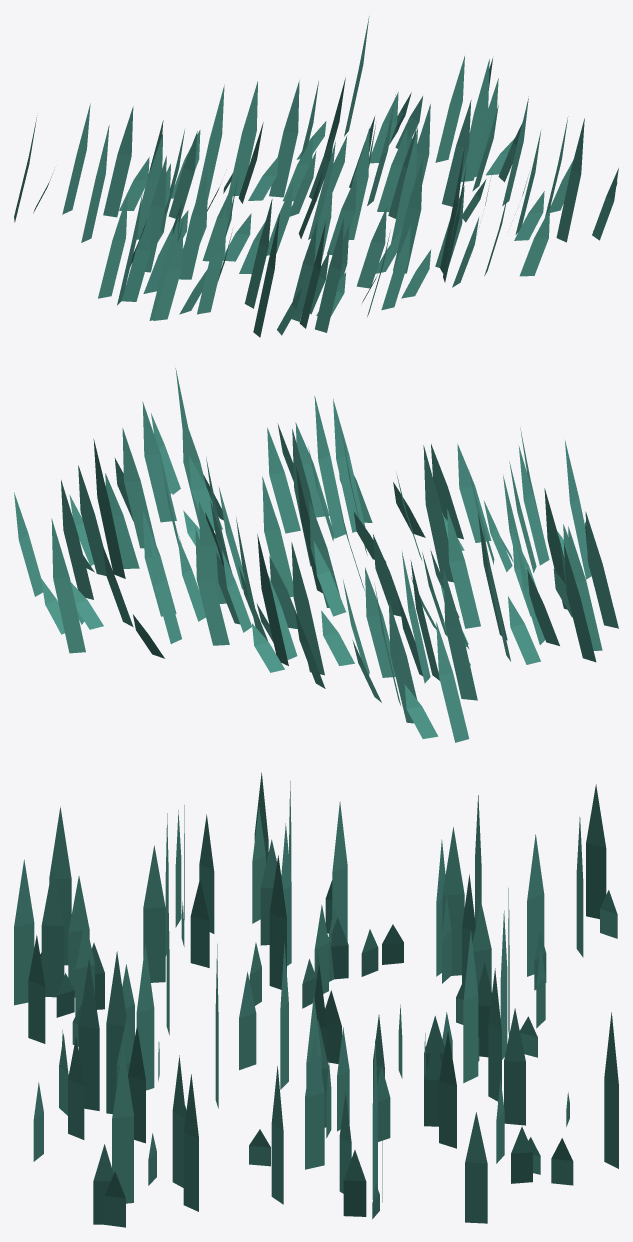
File: grass-cluster.glb
3 renders of one model, top to bottom at view 1: azimuth 30°, elevation 25°; view 2: azimuth 150°, elevation 25°; view 3: azimuth 270°, elevation 25°, orthographic. The views are drawn at different scales.
Visible parts, largest first — view 1: LMW_Wind_blades; view 2: LMW_Wind_blades; view 3: LMW_Wind_blades.
Part boxes in pixels (x1=…): LMW_Wind_blades: x1=14, y1=16, x2=618, y2=337; LMW_Wind_blades: x1=14, y1=368, x2=618, y2=742; LMW_Wind_blades: x1=14, y1=772, x2=618, y2=1227.
Bounding box in the file's own units: 3.19 × 0.7971 × 2.41.
